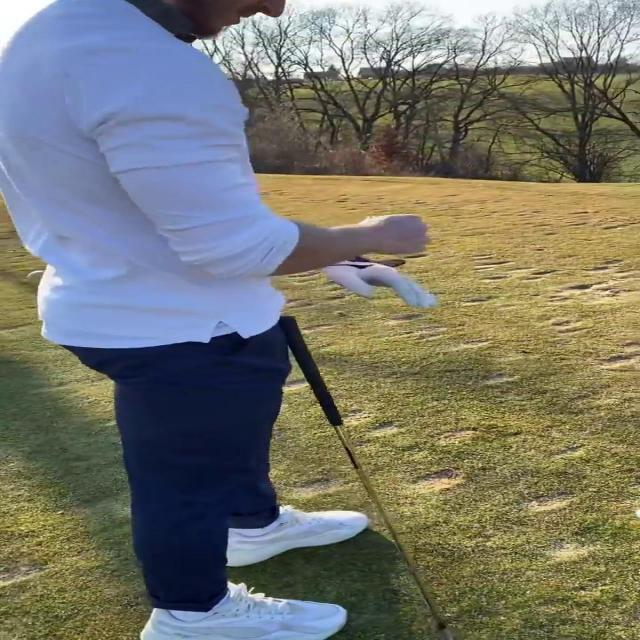ClubHead: (442, 624, 458, 640)
